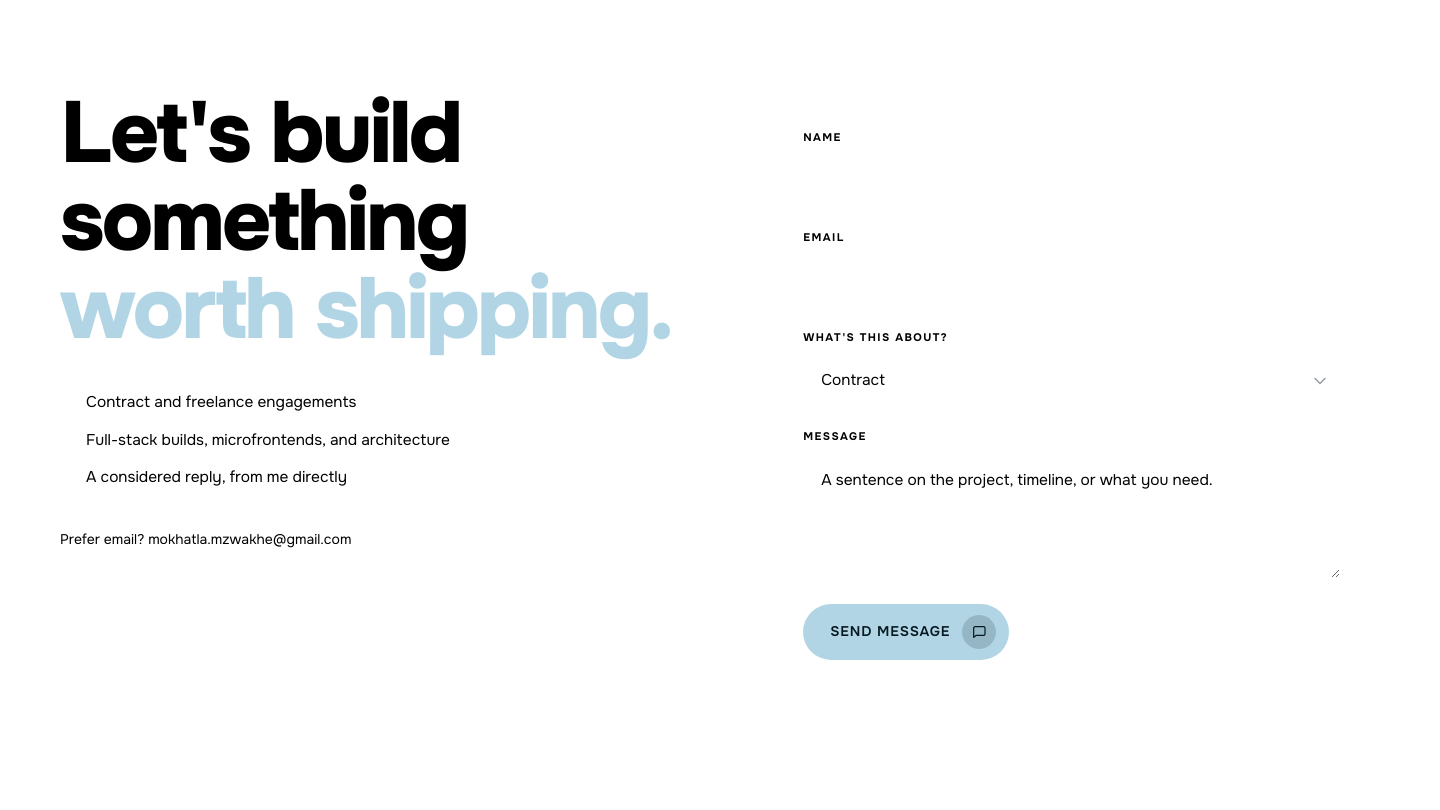
Test: Contact › shows a validation message and does not post when fields are empty
Click the button "Send message".
click(906, 632)  # box [803,604,1009,660]
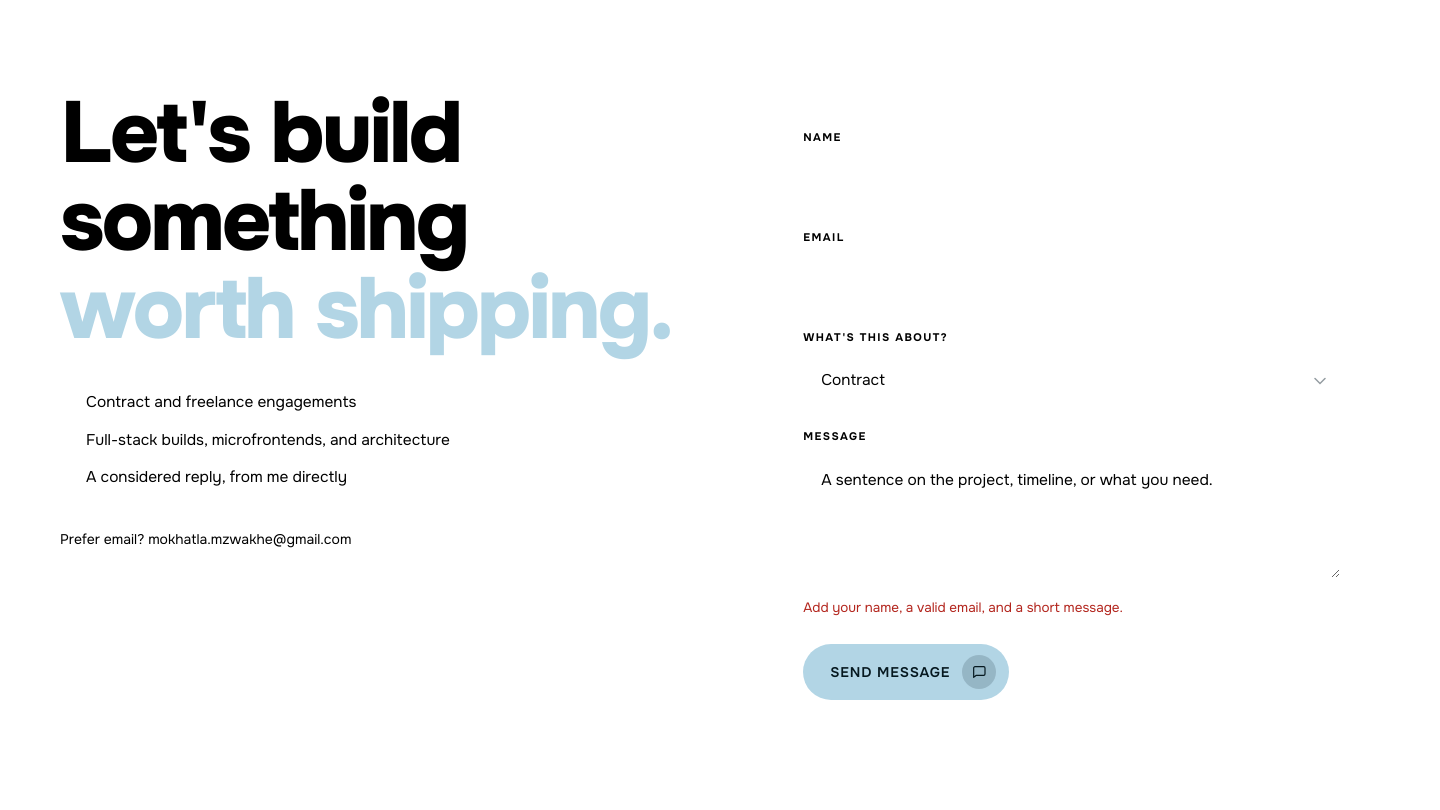
Check: the message shows "Add your name", box [803,599,1123,616]
